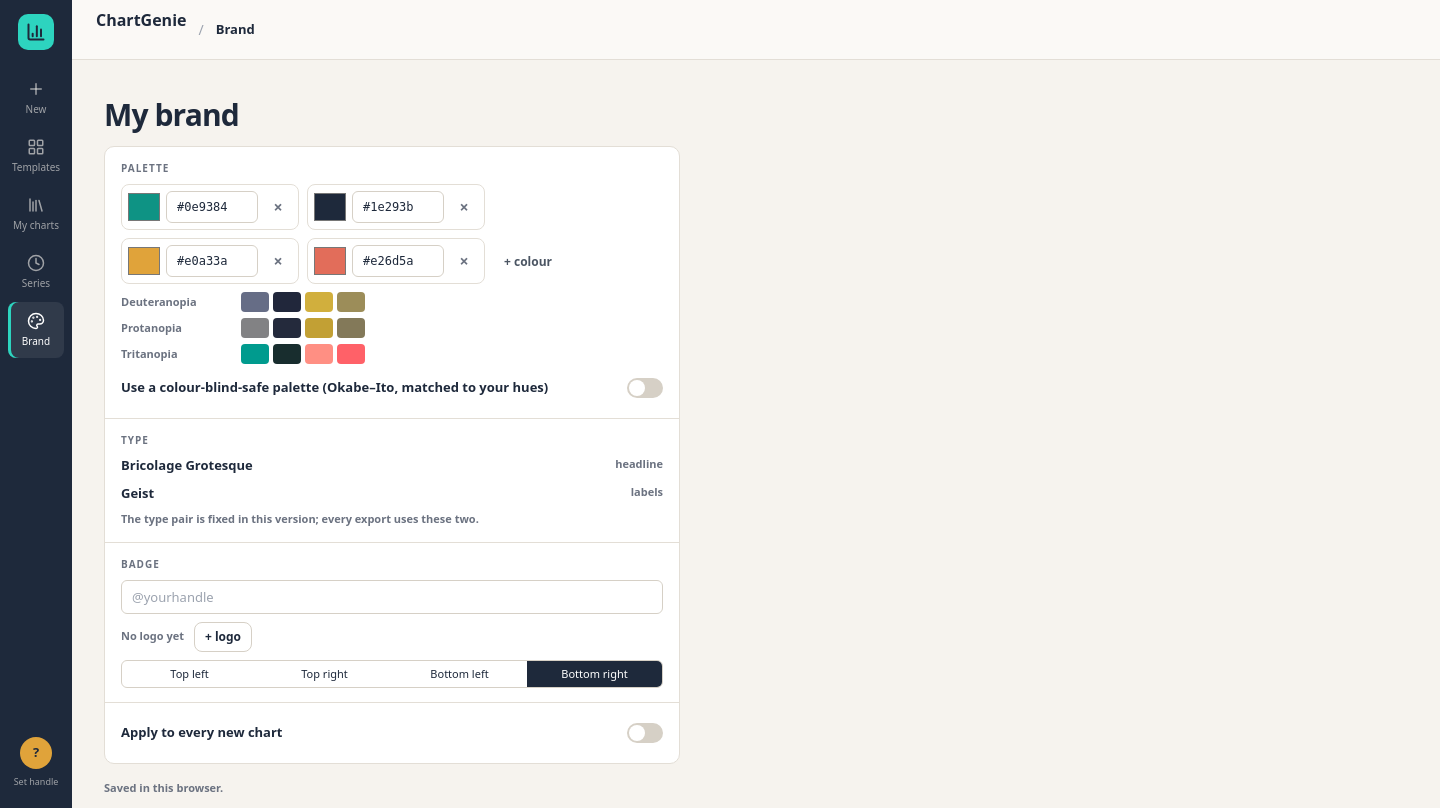
it: Brand screen › shows the colour-blind preview and the safe toggle swaps the palette
Check: the heading "My brand" is shown, box [104,94,239,135]
Check: the element named "colour-blind preview" is shown, box [121,292,365,364]
Click the switch named "colour-blind-safe palette": coordinates (645, 388) [627,378,663,398]
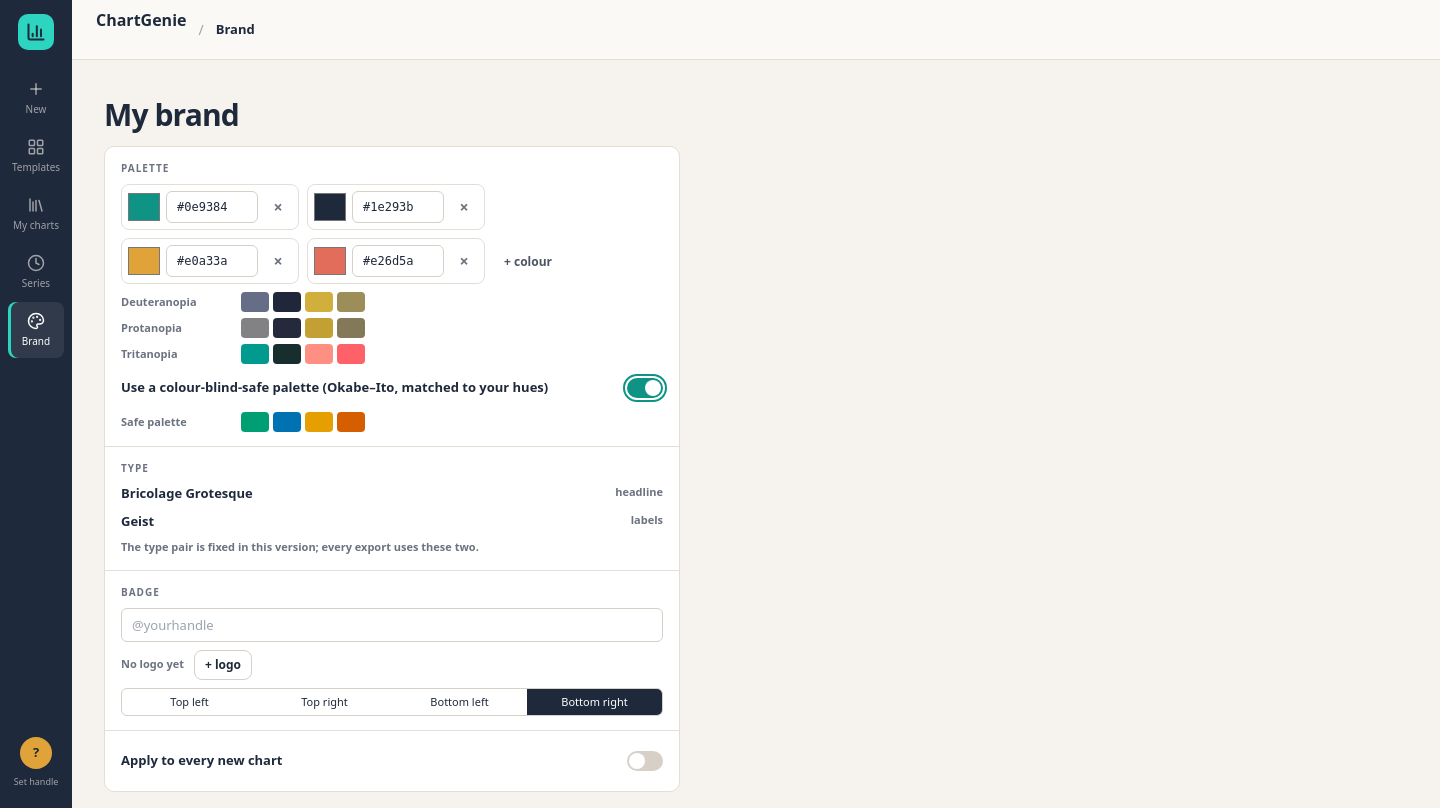
Check: the picture named "Safe colour 1" is shown, box [241,412,269,432]
